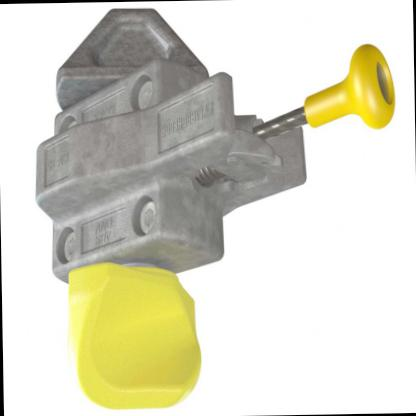Twistlock: (30, 2, 402, 416)
